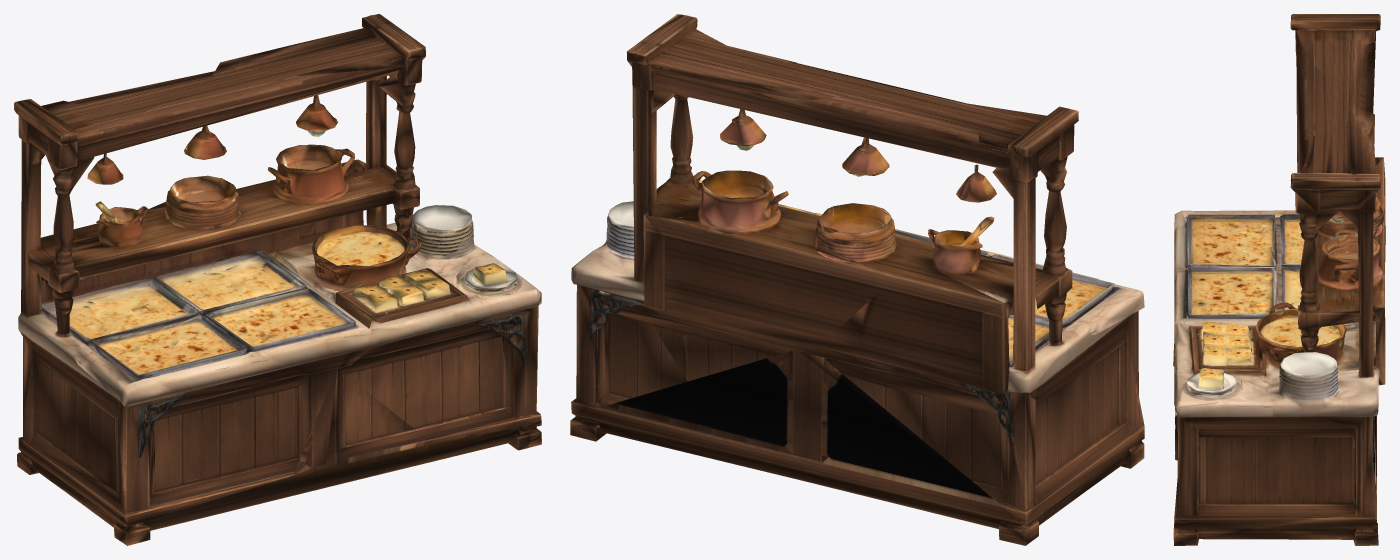
File: city_balikesir_hosmerim_counter.glb
3 renders of one model, left to right at view 1: azimuth 30°, elevation 25°; view 2: azimuth 150°, elevation 25°; view 3: azimuth 270°, elevation 25°, orthographic. The views are drawn at different scales.
Visible parts, largest first — view 1: Mesh1.0; view 2: Mesh1.0; view 3: Mesh1.0.
Boxes of the visible parts, x1,y1,x2,y2 form: Mesh1.0: (14,14,541,545); Mesh1.0: (570,14,1144,545); Mesh1.0: (1173,14,1385,545).
Size of the model in its own units: 2.9 by 2.4 by 1.35.
Materials: 1 (1 with a texture image).
